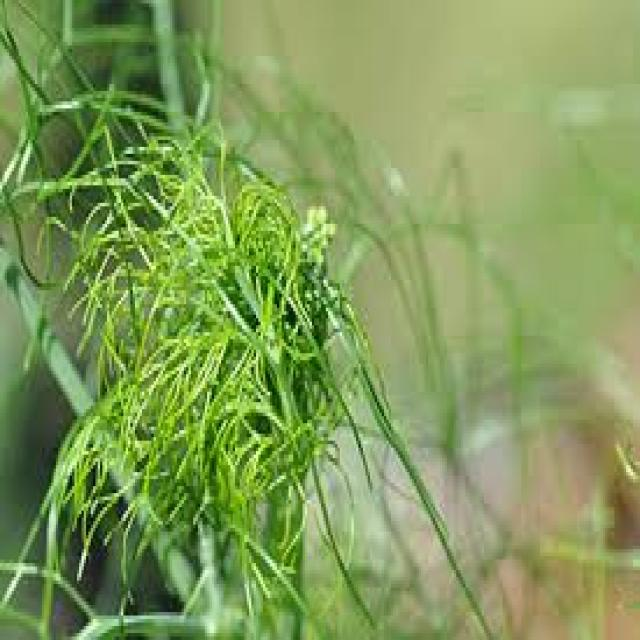Dill: (51, 91, 398, 573)
